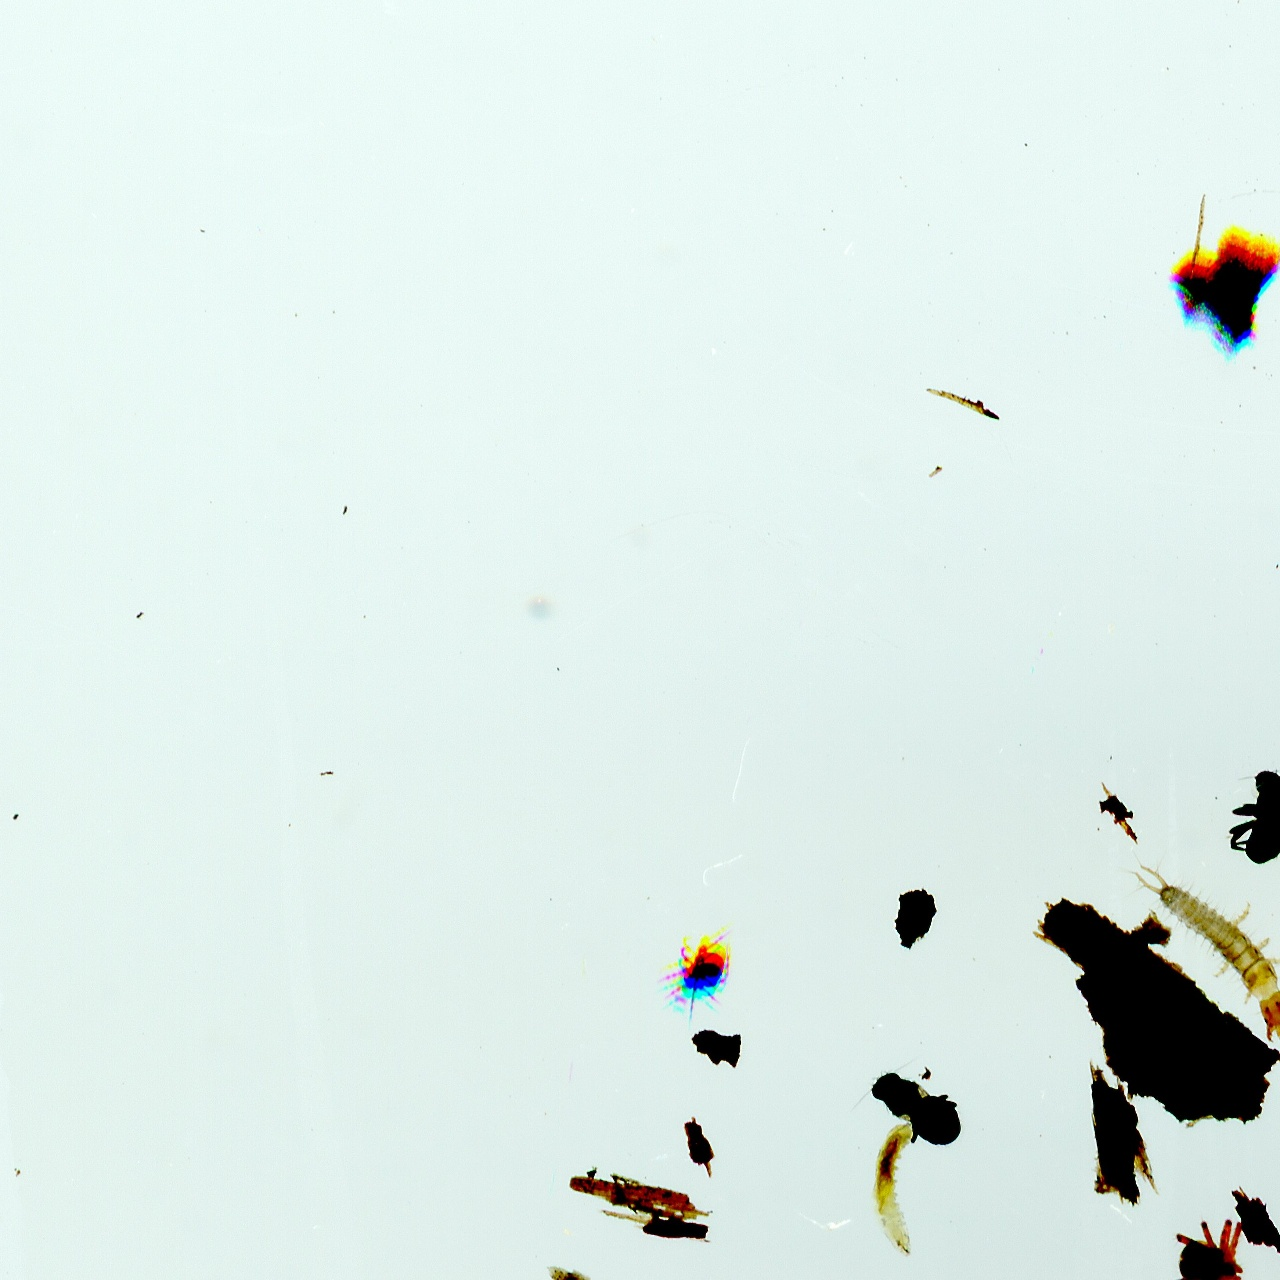arthropod: (1102, 808, 1280, 1062), (843, 1035, 989, 1182), (865, 1117, 921, 1266), (652, 928, 740, 1023), (1227, 764, 1280, 870), (1170, 1218, 1245, 1280)
